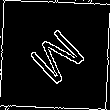M_SE: (21, 21, 89, 89)
